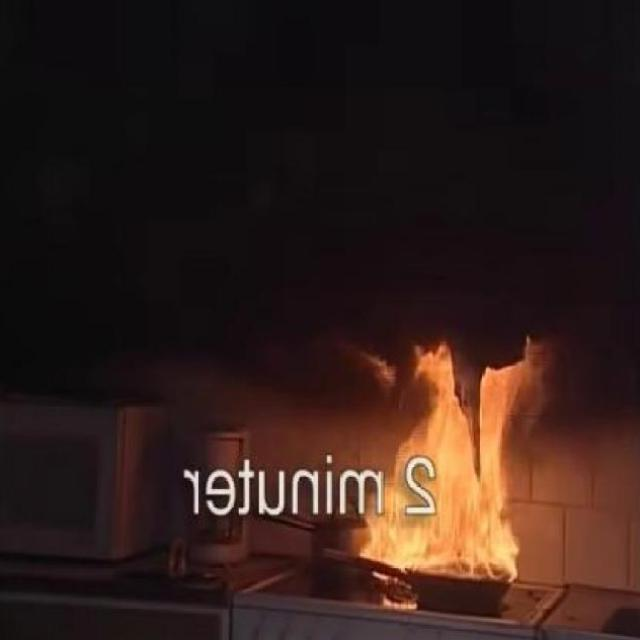smoke: (354, 348, 554, 564)
